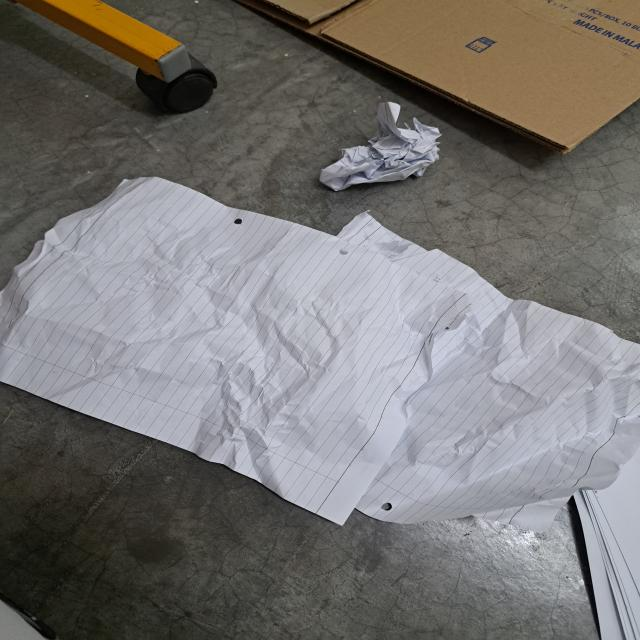cardboard: (229, 0, 640, 154)
paper: (0, 178, 474, 526), (334, 207, 640, 524), (320, 101, 444, 193), (572, 489, 640, 640)
